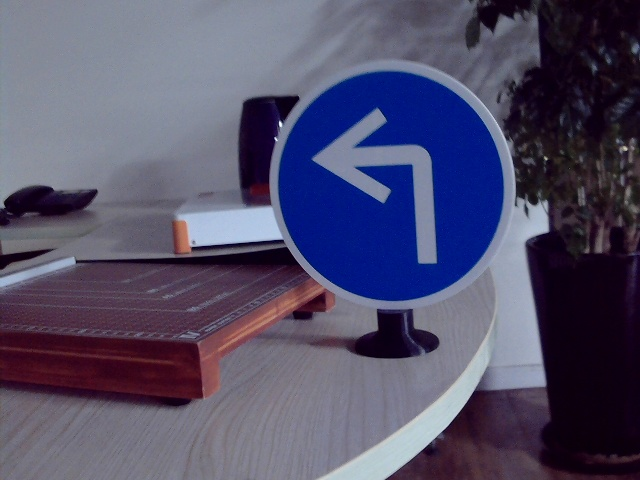turn_left: (314, 100, 448, 270)
